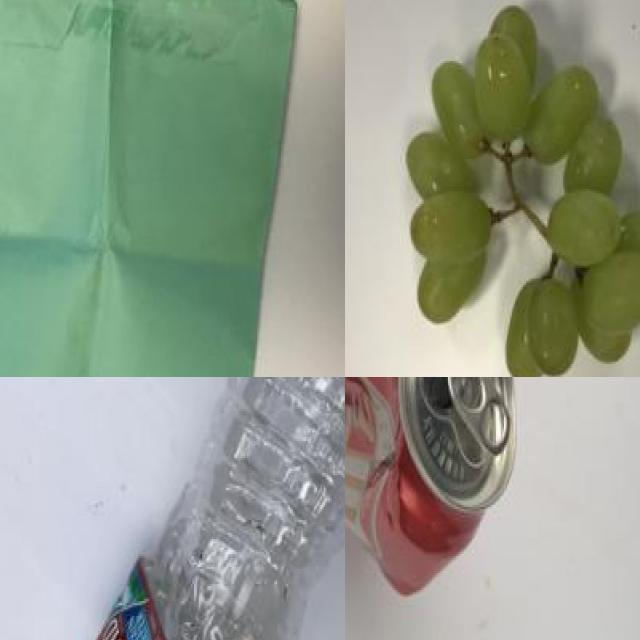compost: (372, 0, 640, 377)
paper: (0, 0, 300, 377)
plastic: (63, 377, 345, 640), (345, 377, 532, 607)
